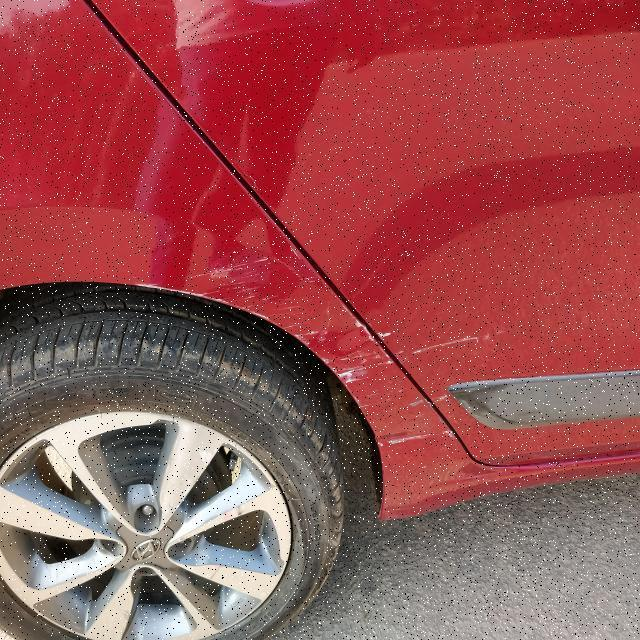quaterpanel-dent: (0, 146, 396, 608)
